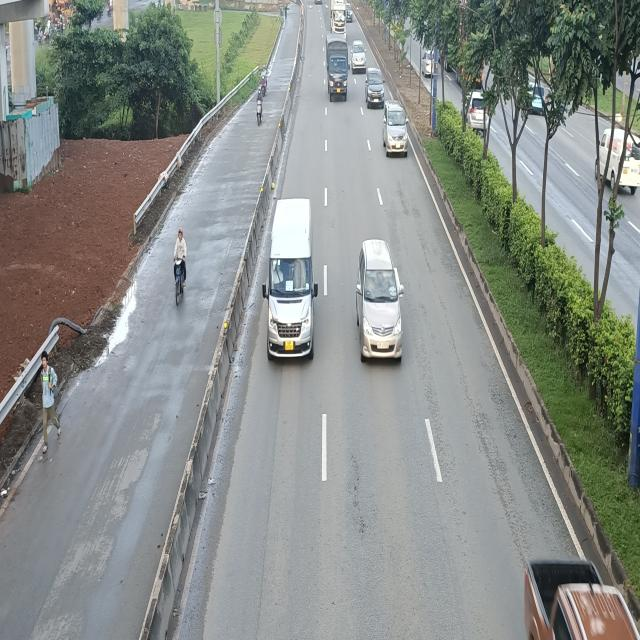car: (355, 238, 403, 361), (382, 103, 409, 158), (366, 68, 386, 108)
truck: (325, 34, 348, 102)
van: (263, 196, 316, 358)
